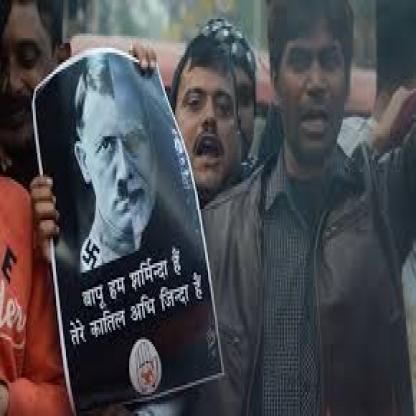BANNER: (30, 48, 225, 414)
